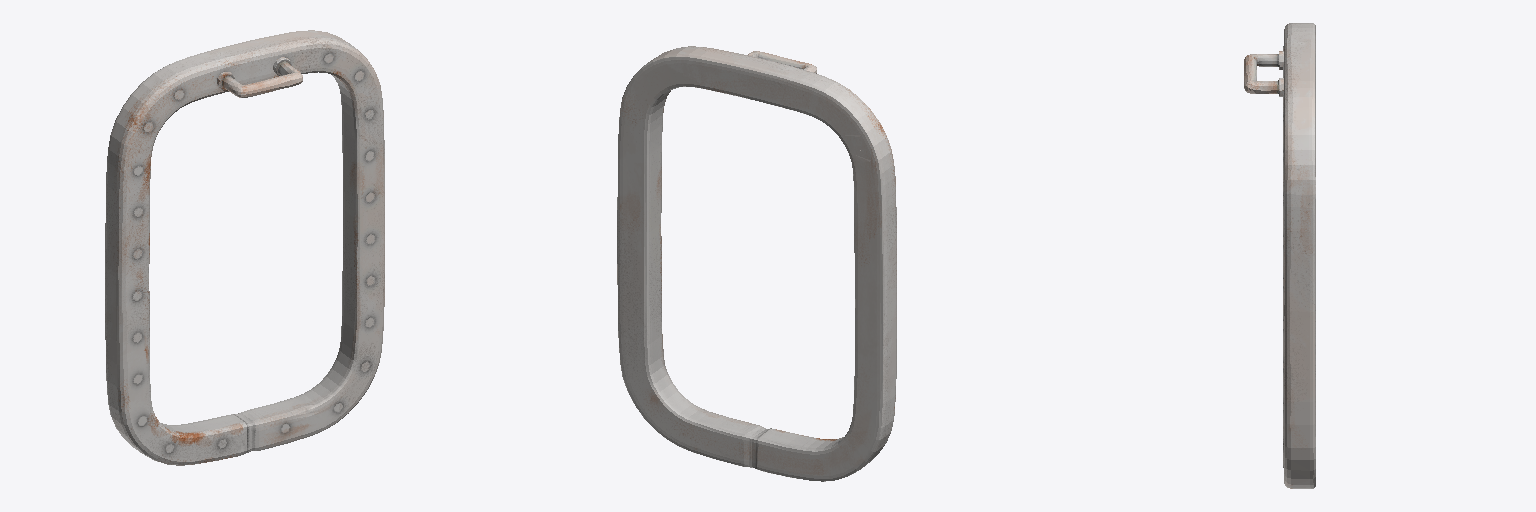
The picture shows the model from 3 angles: view 1: azimuth 30°, elevation 25°; view 2: azimuth 150°, elevation 25°; view 3: azimuth 270°, elevation 25°; orthographic projection.
Visible parts, largest first — view 1: ship_door_frame_lo1:ZBrush_defualt_group2; view 2: ship_door_frame_lo1:ZBrush_defualt_group2; view 3: ship_door_frame_lo1:ZBrush_defualt_group2.
Boxes of the visible parts, x1=… form: ship_door_frame_lo1:ZBrush_defualt_group2: x1=105, y1=30, x2=384, y2=465; ship_door_frame_lo1:ZBrush_defualt_group2: x1=617, y1=46, x2=896, y2=481; ship_door_frame_lo1:ZBrush_defualt_group2: x1=1244, y1=23, x2=1315, y2=488.
Bounding box in the file's own units: 5.01 × 7.15 × 1.17.
1 materials, 1 textured.